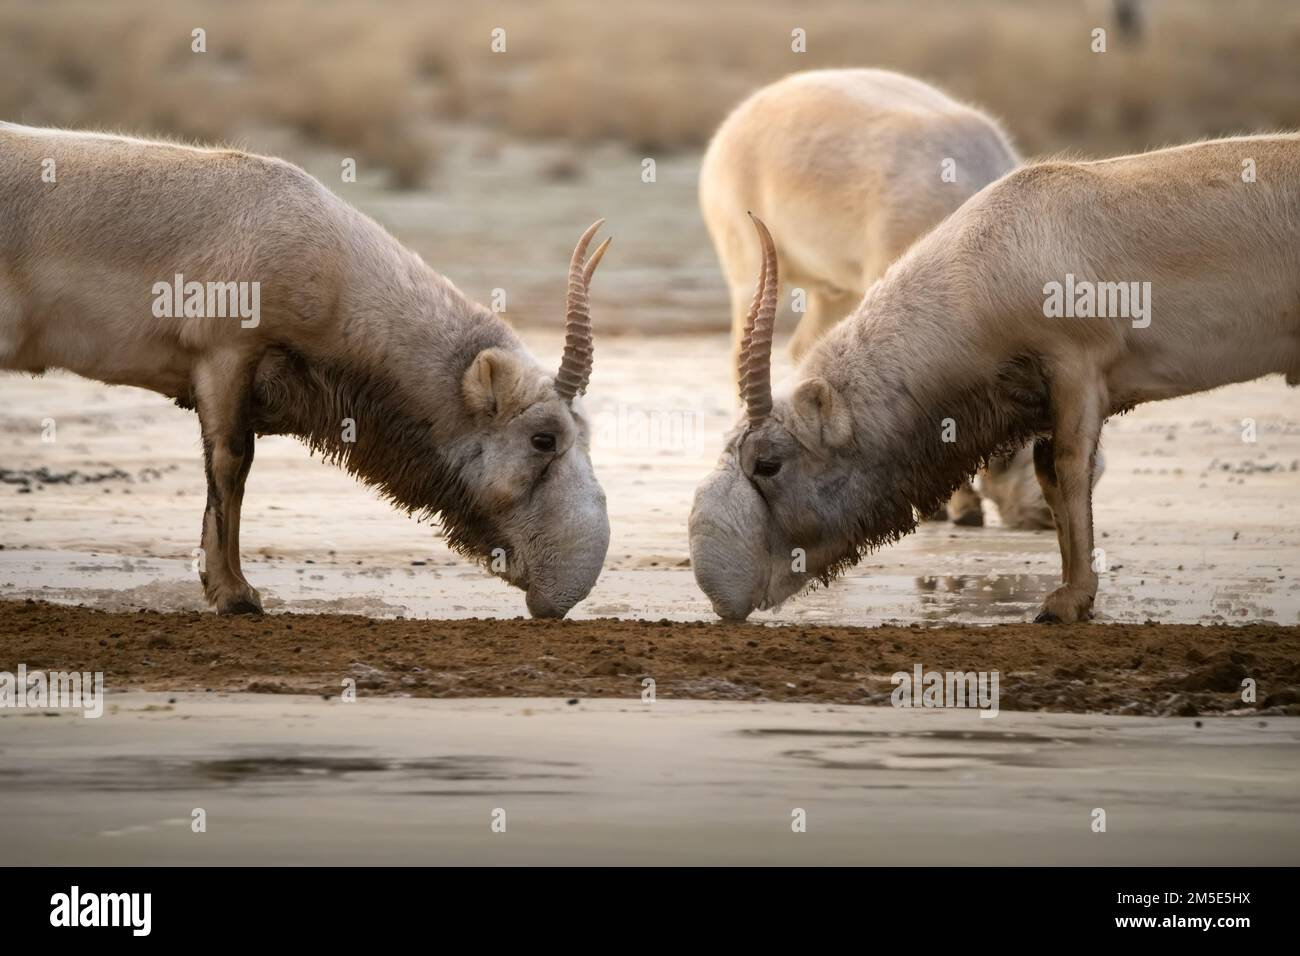saiga: (2, 114, 610, 616), (687, 130, 1300, 614)
